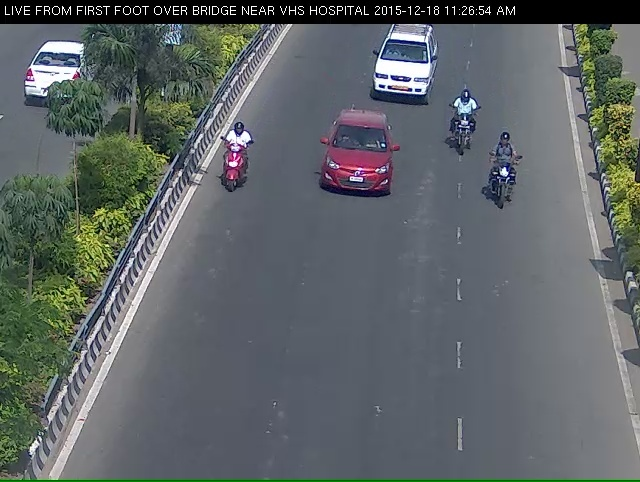Car: (310, 128, 396, 219), (366, 34, 432, 108)
Person: (203, 128, 249, 215), (493, 135, 527, 229), (447, 103, 482, 162)
